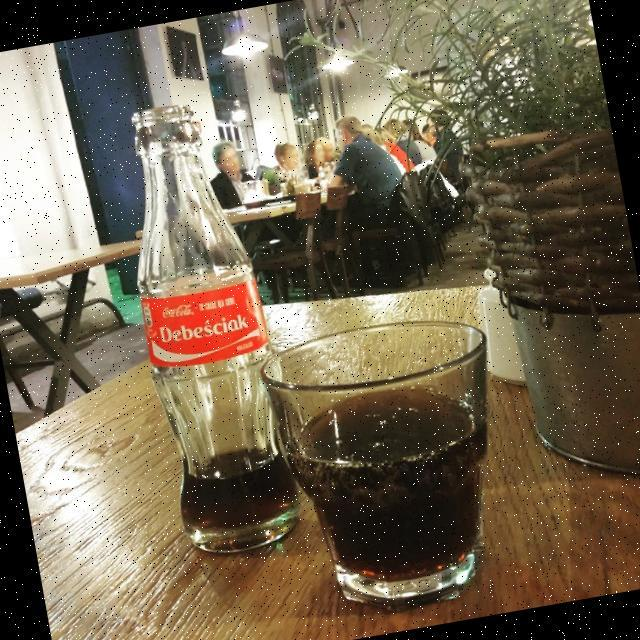coca-cola: (104, 95, 306, 563)
